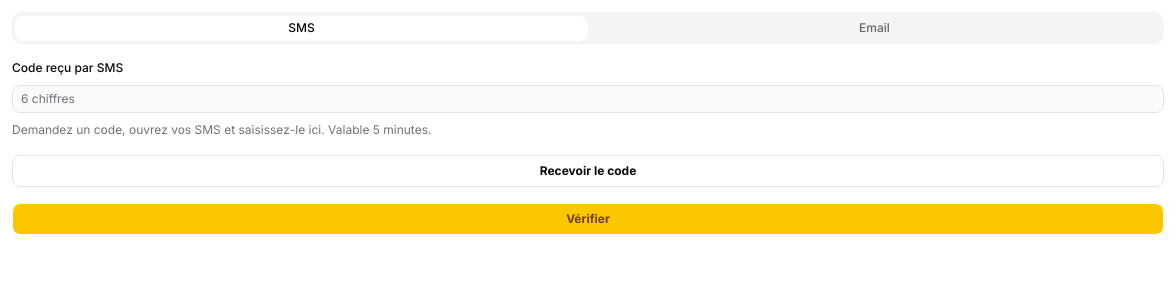
Test: Verify2faForm — méthode d'envoi demandée › envoie par email quand l'onglet email est choisi, et l'annonce
Click the tab "Email" at (874, 28), box [588,16,1161,40]
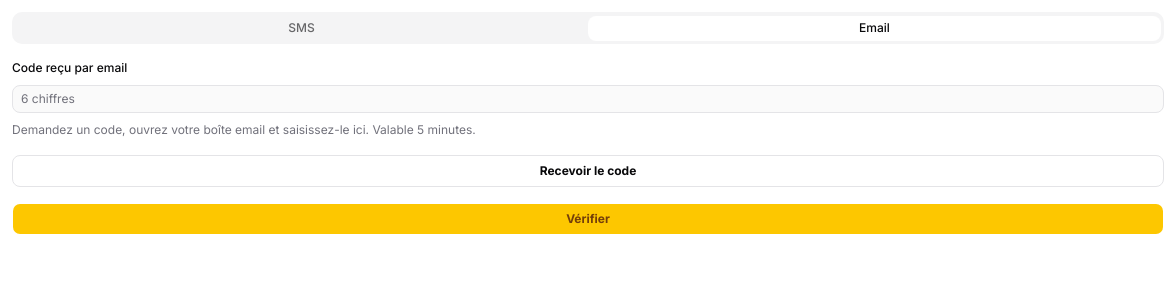
Click the button "Recevoir le code" at (588, 170), box [12,154,1164,186]
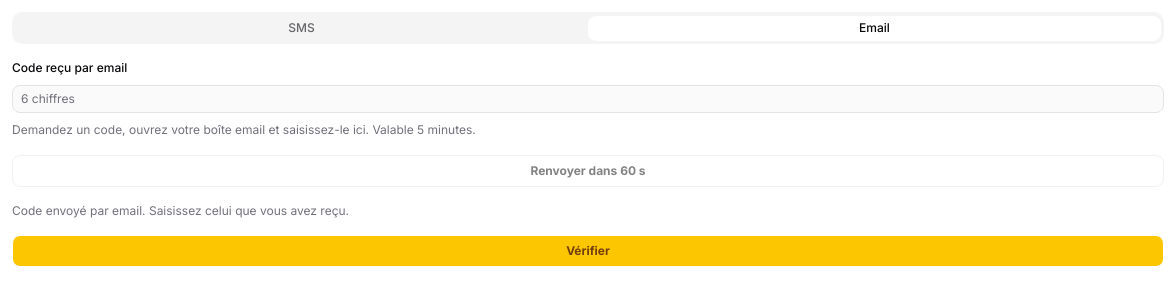
Now the text "Code envoyé par email. Saisissez celui que vous avez reçu." is shown, box [12,202,349,218]
